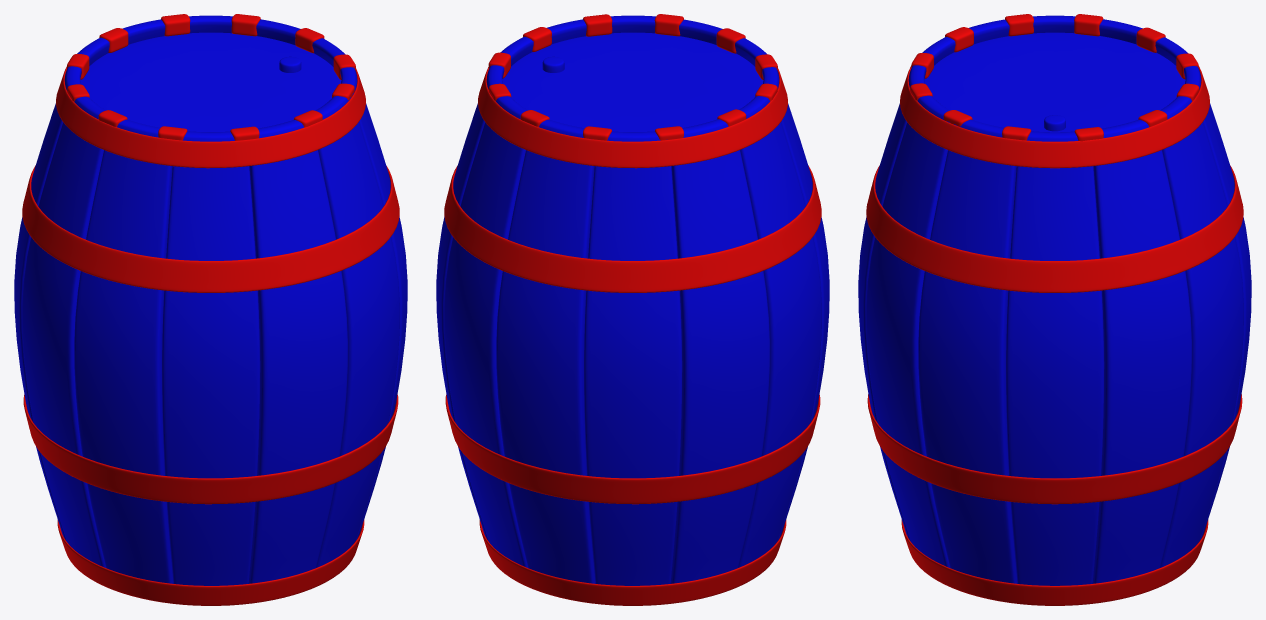
The model's file is barrel.fbx.
The picture shows the model from 3 angles, left to right: view 1: azimuth 30°, elevation 25°; view 2: azimuth 150°, elevation 25°; view 3: azimuth 270°, elevation 25°; orthographic projection.
Parts seen in each view (by area): view 1: polySurface45, polySurface28, polySurface35, polySurface31, polySurface34, polySurface37, polySurface27, polySurface32, polySurface40, polySurface41, polySurface48, polySurface44 (+5 smaller); view 2: polySurface47, polySurface48, polySurface36, polySurface31, polySurface30, polySurface34, polySurface27, polySurface32, polySurface40, polySurface41, polySurface42, polySurface35 (+5 smaller); view 3: polySurface38, polySurface42, polySurface44, polySurface31, polySurface37, polySurface30, polySurface27, polySurface32, polySurface40, polySurface41, polySurface28, polySurface36 (+5 smaller).
Part boxes in pixels (<box>): polySurface45: <box>162,131,260,585</box>; polySurface28: <box>248,120,347,583</box>; polySurface35: <box>74,119,173,583</box>; polySurface31: <box>80,32,341,131</box>; polySurface34: <box>22,96,105,567</box>; polySurface37: <box>315,96,399,567</box>; polySurface27: <box>22,165,399,292</box>; polySurface32: <box>23,394,398,504</box>; polySurface40: <box>56,66,365,168</box>; polySurface41: <box>57,520,364,605</box>; polySurface48: <box>14,66,81,540</box>; polySurface44: <box>340,67,407,539</box>; polySurface47: <box>584,131,682,585</box>; polySurface48: <box>670,119,769,583</box>; polySurface36: <box>496,119,595,583</box>; polySurface31: <box>502,32,763,131</box>; polySurface30: <box>444,96,527,567</box>; polySurface34: <box>738,96,821,567</box>; polySurface27: <box>444,165,821,292</box>; polySurface32: <box>445,394,820,504</box>; polySurface40: <box>478,67,787,168</box>; polySurface41: <box>479,520,786,605</box>; polySurface42: <box>436,65,504,540</box>; polySurface35: <box>762,67,829,540</box>; polySurface38: <box>1006,131,1104,585</box>; polySurface42: <box>1092,119,1191,583</box>; polySurface44: <box>918,119,1017,583</box>; polySurface31: <box>924,32,1185,132</box>; polySurface37: <box>866,95,949,567</box>; polySurface30: <box>1160,96,1243,567</box>; polySurface27: <box>866,165,1243,292</box>; polySurface32: <box>867,394,1242,504</box>; polySurface40: <box>900,53,1209,168</box>; polySurface41: <box>901,519,1208,605</box>; polySurface28: <box>858,65,926,540</box>; polySurface36: <box>1184,66,1251,539</box>.
Size of the model in its own units: 2.69 by 3.57 by 2.69.
